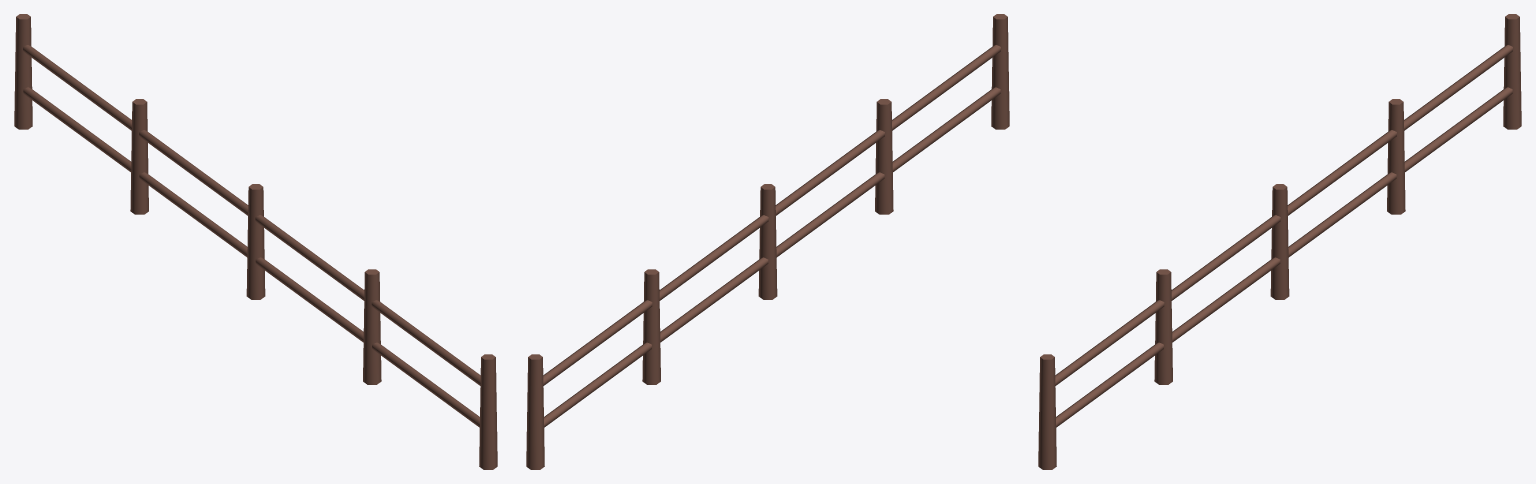
The model's file is fence.glb.
The picture shows the model from 3 angles, left to right: view 1: azimuth 30°, elevation 25°; view 2: azimuth 150°, elevation 25°; view 3: azimuth 330°, elevation 25°; orthographic projection.
Bounding box in the file's own units: 0.1732 × 1.3 × 10.2.
